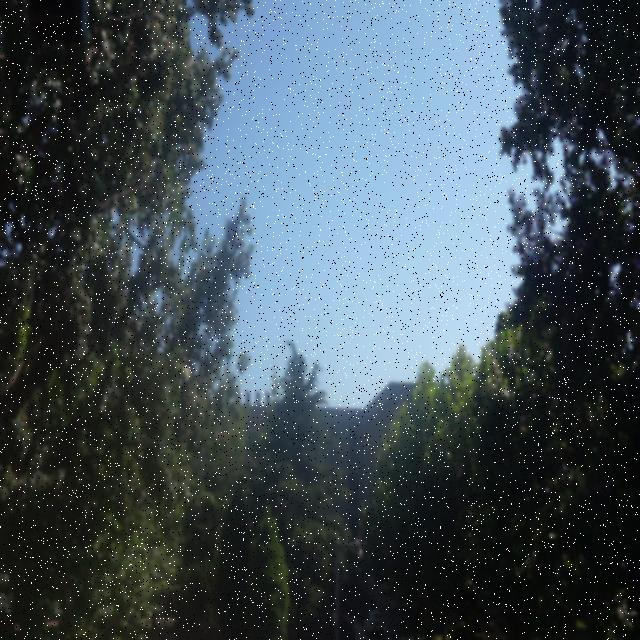UAV: (389, 485, 401, 497)
